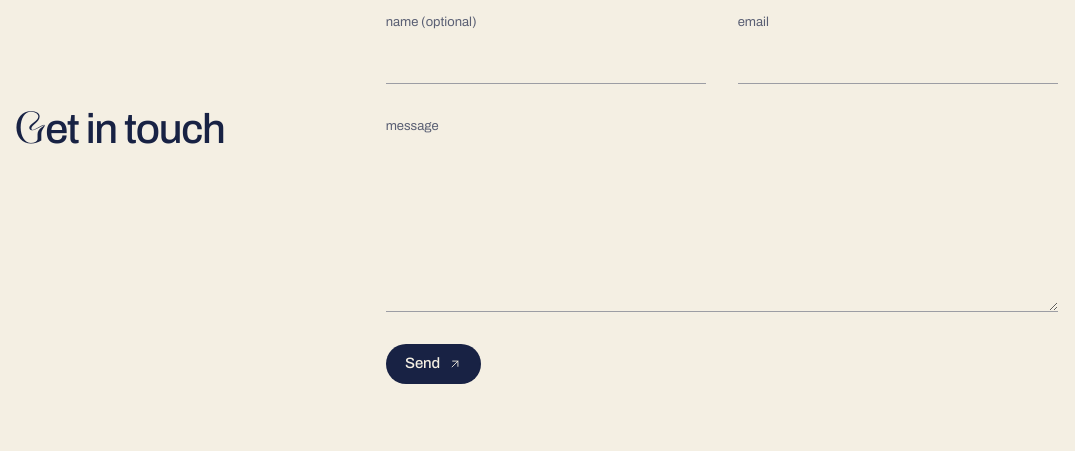
Test: shows an error when sending fails
The width and height of the screenshot is (1075, 451).
In the field labelled "email": (898, 61) [738, 38, 1058, 84], type "a@b.co"
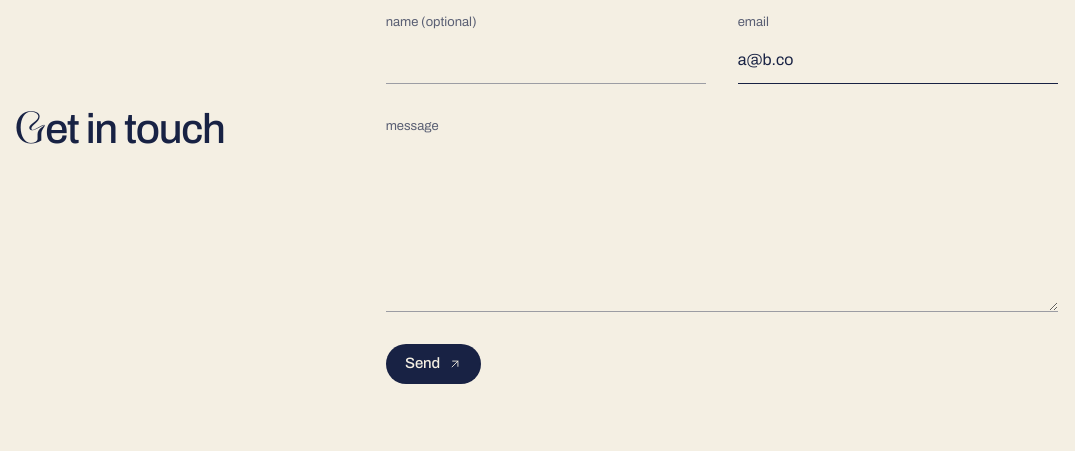
In the text box labelled "message": (722, 227) [386, 142, 1058, 312], type "hello <i>there</i>"
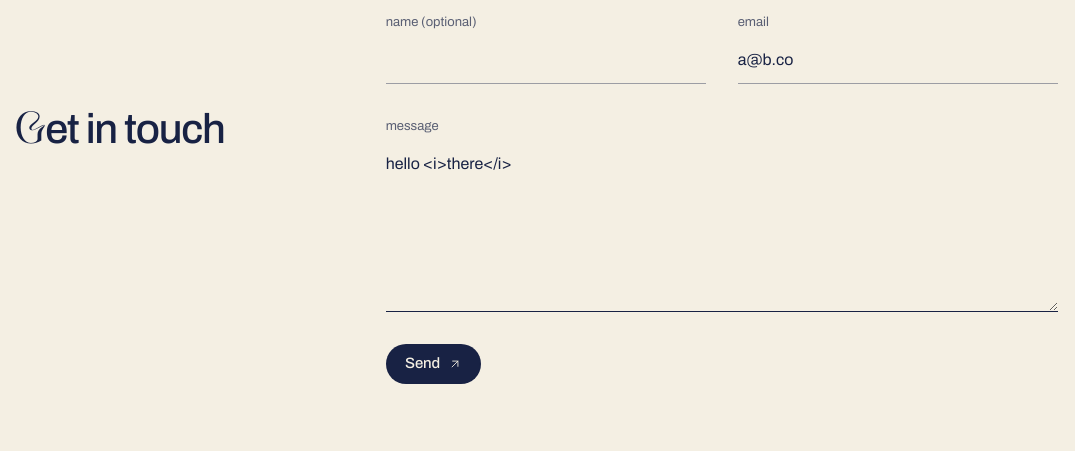
Click the button "Send": (434, 364) [386, 344, 482, 384]
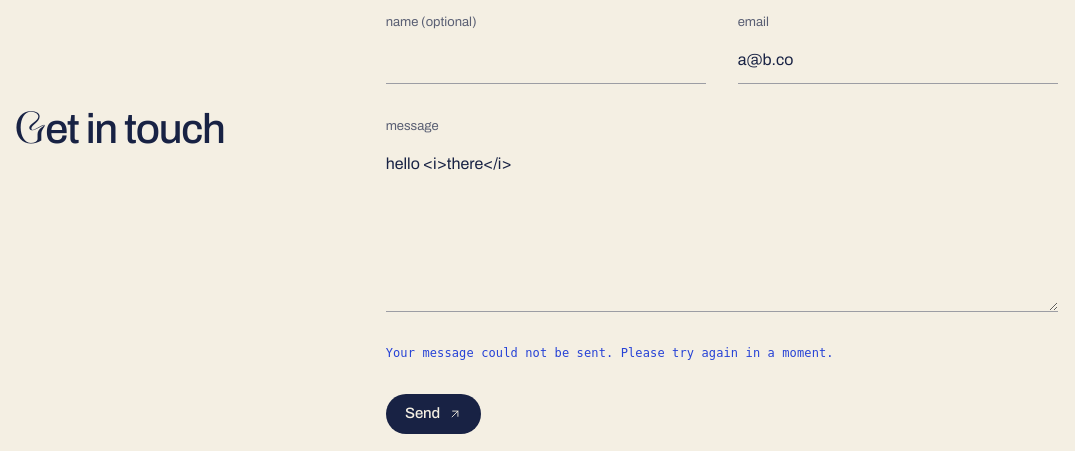
Expected: the message shows "could not be sent", [386, 346, 834, 360]
